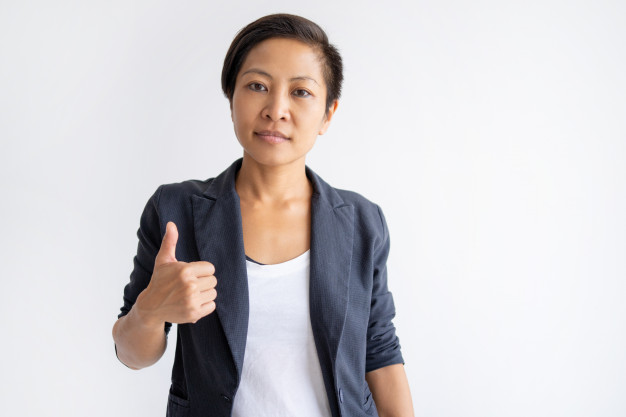thumbsup: (161, 220, 218, 322)
